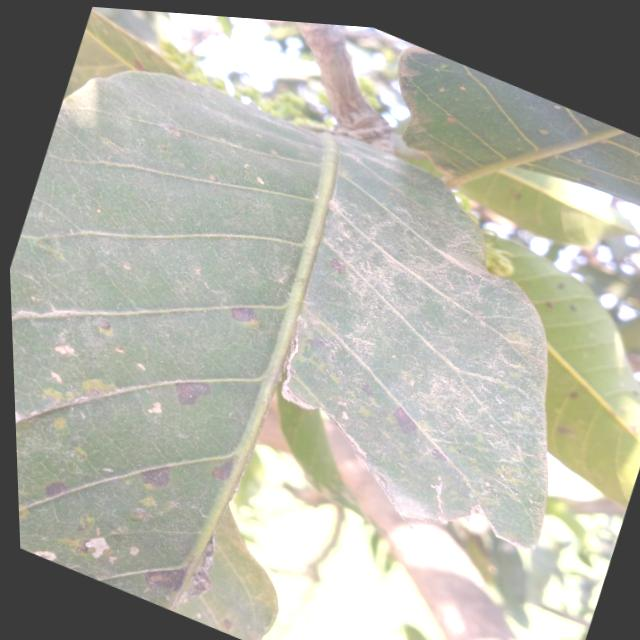Anthracnose: (164, 364, 215, 415), (128, 450, 182, 498), (200, 446, 239, 490), (219, 296, 261, 329), (382, 400, 421, 431), (88, 312, 118, 339)
Powdery Mildew: (432, 482, 447, 513), (32, 546, 58, 562), (142, 402, 161, 415), (3, 443, 17, 458), (15, 408, 21, 425)
